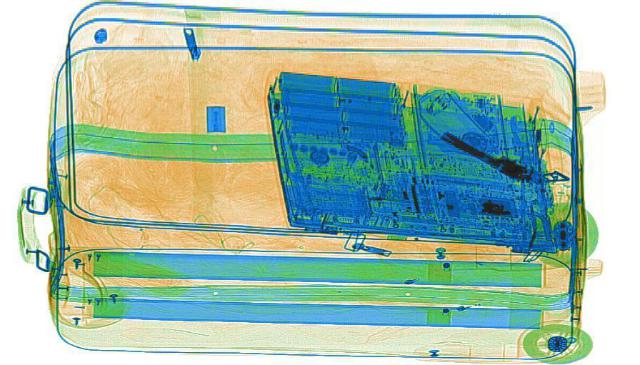Gun: (429, 124, 568, 189)
